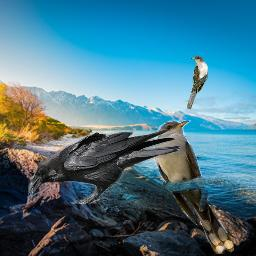Crow: (28, 129, 182, 204)
Cuckoo: (154, 120, 234, 254), (187, 56, 208, 109)
